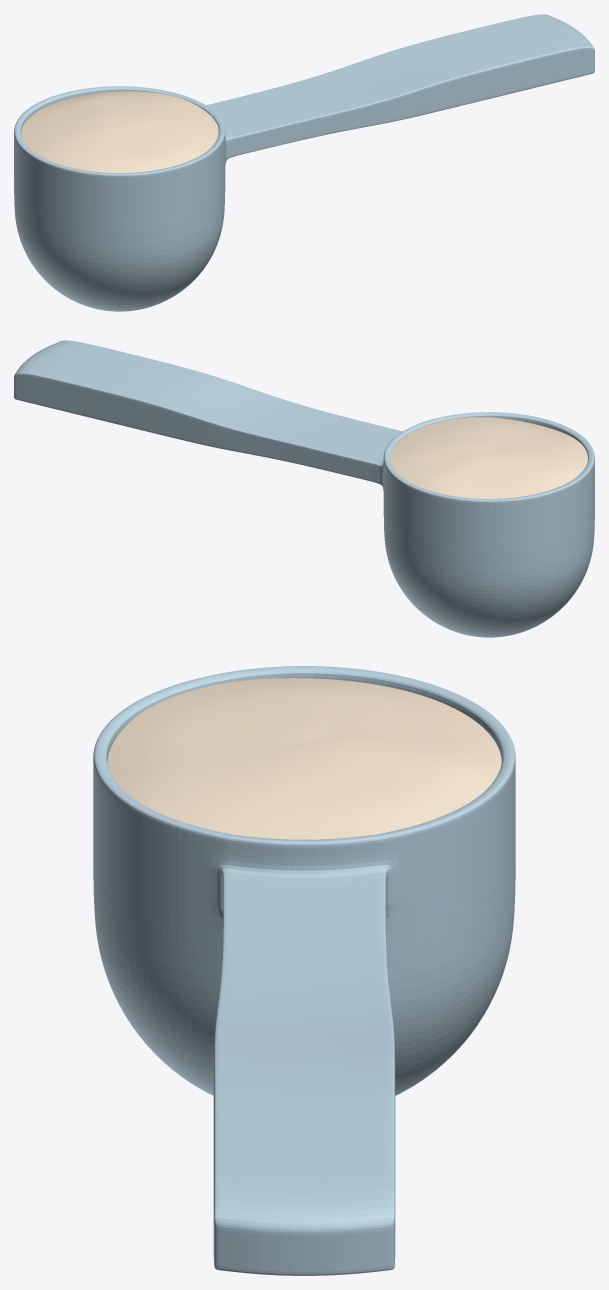
File: spoon_flatten_combined.fbx
The picture shows the model from 3 angles, top to bottom: view 1: azimuth 30°, elevation 25°; view 2: azimuth 150°, elevation 25°; view 3: azimuth 270°, elevation 25°; orthographic projection. The views are drawn at different scales.
Visible parts, largest first — view 1: Circle.001; view 2: Circle.001; view 3: Circle.001.
Part boxes in pixels (box(x1,y1,x2,y2)): Circle.001: box(14, 14, 594, 311); Circle.001: box(14, 340, 594, 637); Circle.001: box(93, 666, 515, 1275).
Bounding box in the file's own units: 60.16 × 18.55 × 19.97.
